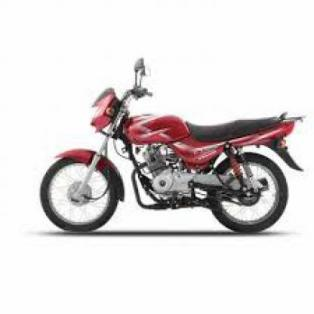Motocicleta: (32, 44, 312, 239)
